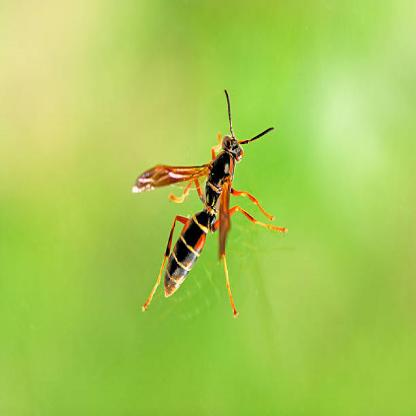sawfly: (126, 90, 295, 319)
